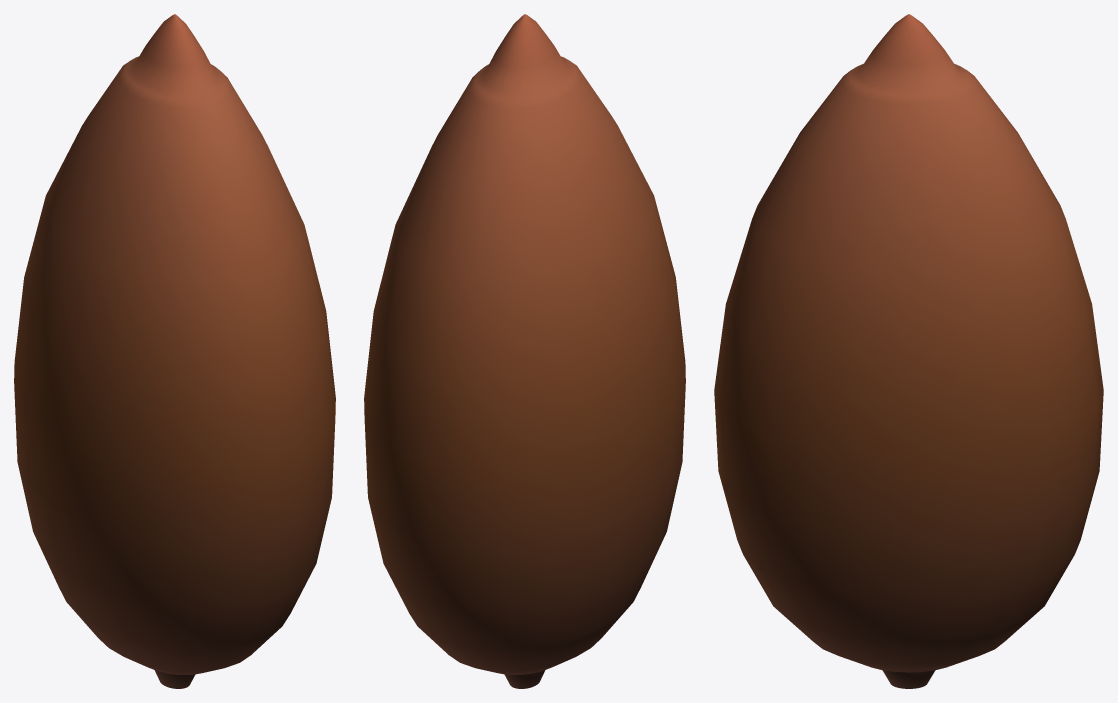
Rendered from seed.fbx.
3 views of the same model, side by side, from view 1: azimuth 30°, elevation 25°; view 2: azimuth 150°, elevation 25°; view 3: azimuth 270°, elevation 25° (orthographic).
Parts seen in each view (by area): view 1: Sphere002; view 2: Sphere002; view 3: Sphere002.
Part boxes in pixels (bbox=[...]): Sphere002: bbox=[14, 14, 335, 688]; Sphere002: bbox=[364, 14, 685, 688]; Sphere002: bbox=[714, 14, 1103, 688].
Size of the model in its own units: 2.93 by 7.23 by 3.81.
